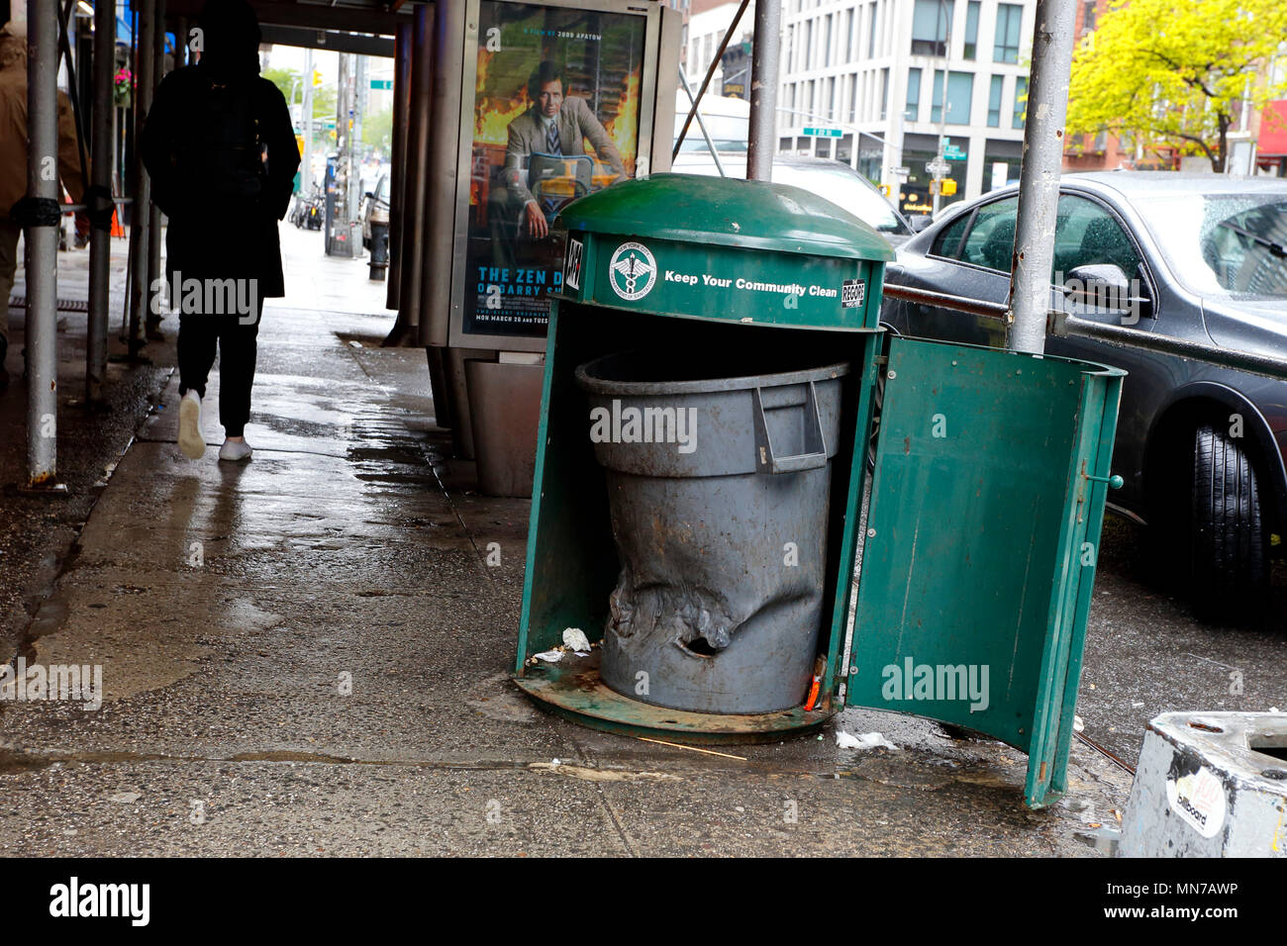partial: (514, 172, 898, 718)
